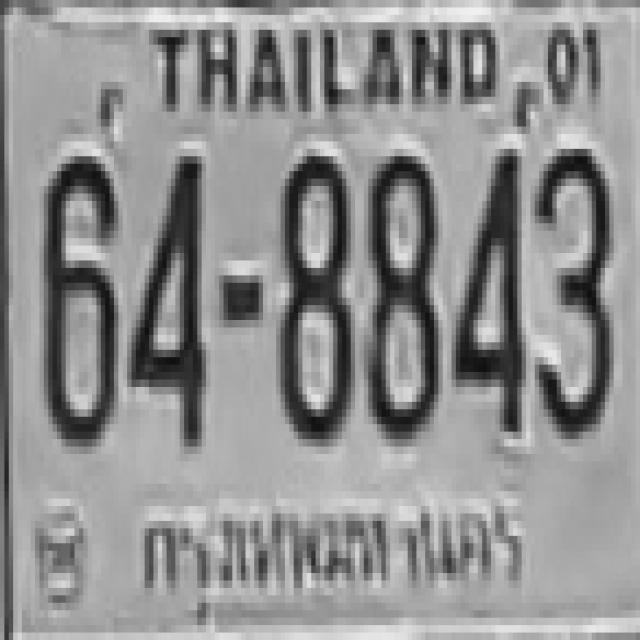3: (530, 142, 610, 432)
4: (127, 149, 202, 439), (452, 142, 522, 424)
6: (39, 149, 114, 439)
8: (276, 148, 351, 432), (364, 148, 434, 432)
Bangkok: (133, 491, 523, 600)
